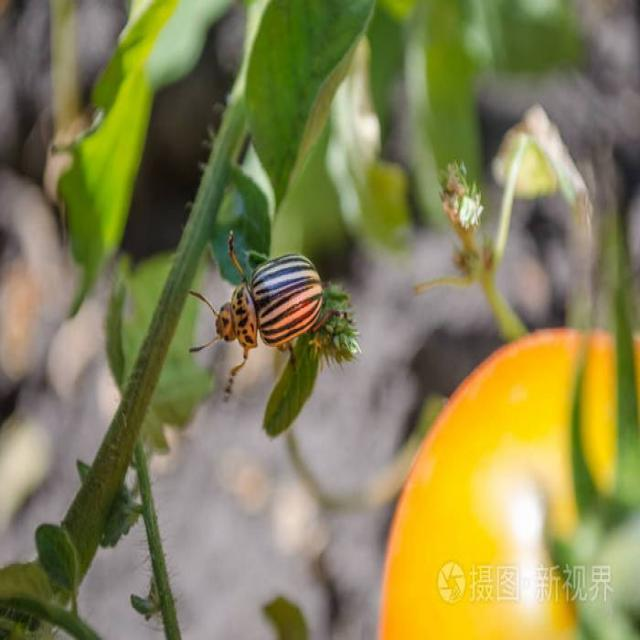ShuCaiHuaBanChong-Grown-: (203, 236, 329, 367)
